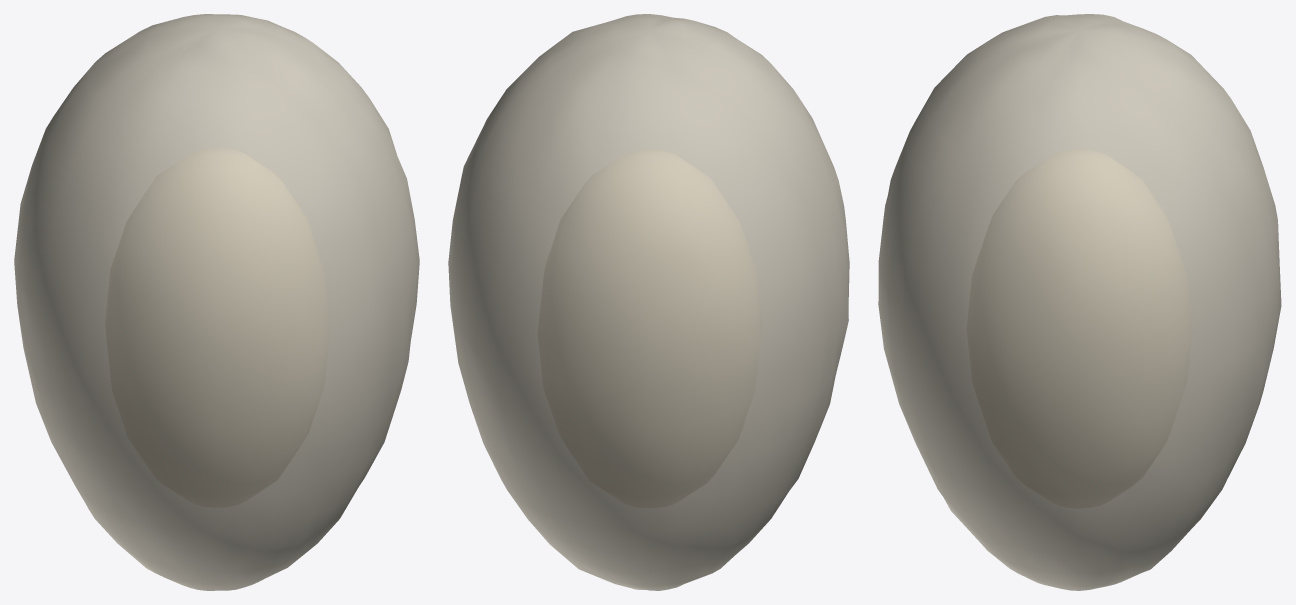
Rendered from items-antegg.glb.
3 renders of one model, left to right at view 1: azimuth 30°, elevation 25°; view 2: azimuth 150°, elevation 25°; view 3: azimuth 270°, elevation 25°, orthographic.
Parts seen in each view (by area): view 1: AntEgg__Shell, AntEgg__Larva; view 2: AntEgg__Shell, AntEgg__Larva; view 3: AntEgg__Shell, AntEgg__Larva.
Part boxes in pixels (box(x1,y1,x2,y2)): AntEgg__Shell: box(14, 14, 419, 590); AntEgg__Larva: box(106, 149, 328, 506); AntEgg__Shell: box(448, 14, 849, 590); AntEgg__Larva: box(538, 150, 760, 507); AntEgg__Shell: box(878, 14, 1281, 590); AntEgg__Larva: box(968, 150, 1191, 507).
Bounding box in the file's own units: 2.31 × 3.5 × 2.32.
